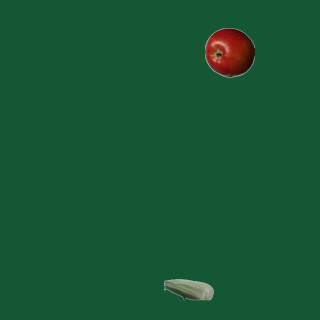Apple Braeburn: (204, 27, 254, 77)
Corn Husk: (163, 264, 213, 314)
